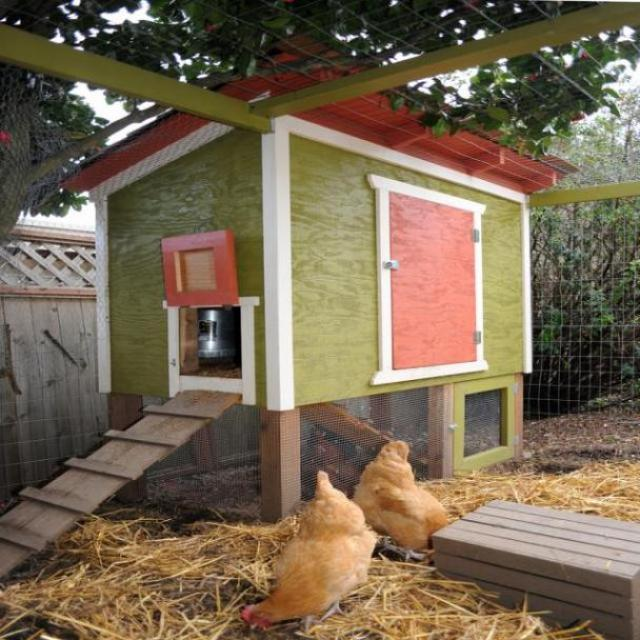Chicken: (238, 474, 389, 629), (347, 439, 453, 568)
